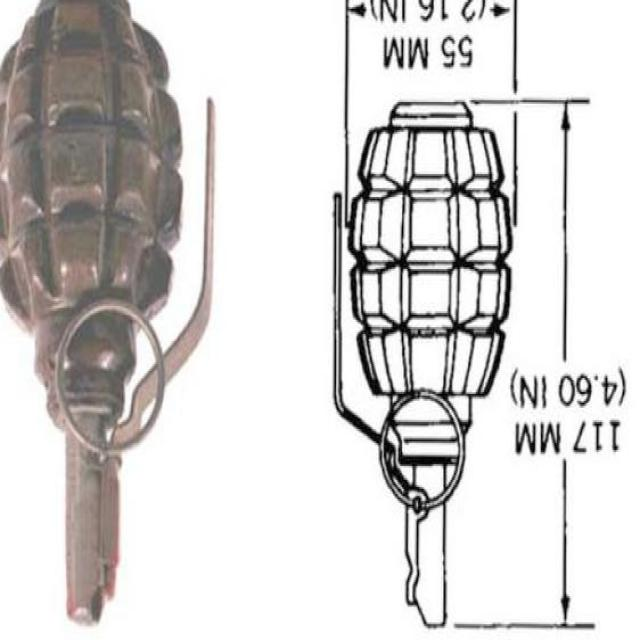grenade: (2, 3, 215, 629), (335, 101, 515, 627)
